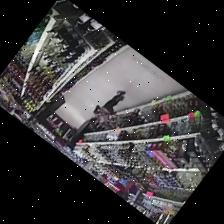person: (89, 91, 125, 127)
